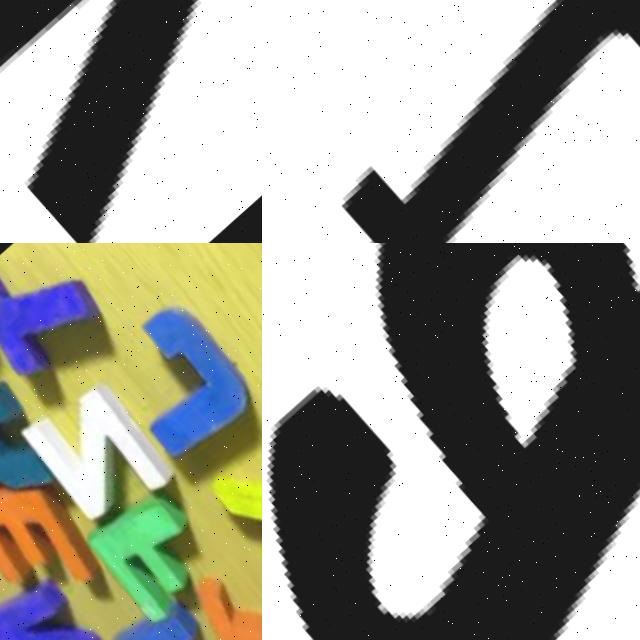A: (262, 243, 640, 640)
E: (0, 446, 130, 627)
F: (84, 480, 237, 628)
J: (91, 292, 262, 470)
K: (0, 351, 81, 523)
N: (0, 558, 132, 640)
P: (102, 588, 262, 640)
T: (262, 0, 640, 243), (0, 243, 132, 401)
W: (0, 0, 262, 243)
X: (192, 406, 262, 616)
Z: (17, 364, 199, 541)
